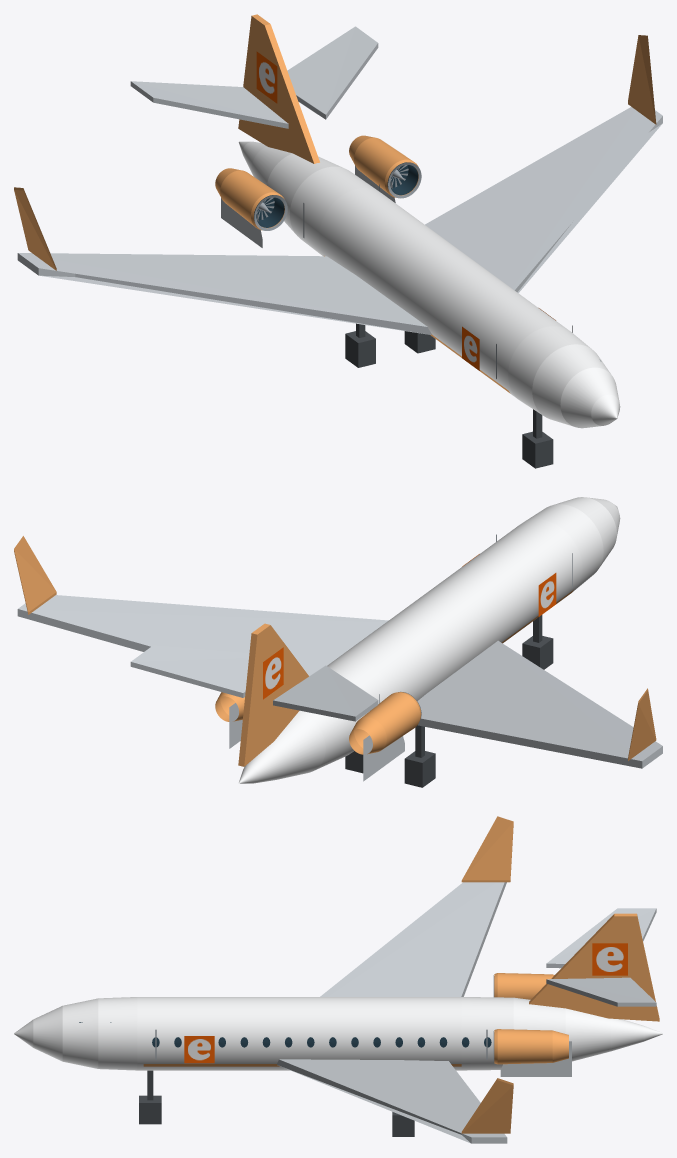
The model's file is bizjet-EZY-v3.gltf.
3 renders of one model, top to bottom at view 1: azimuth 30°, elevation 25°; view 2: azimuth 150°, elevation 25°; view 3: azimuth 270°, elevation 25°, orthographic. The views are drawn at different scales.
Visible parts, largest first — view 1: object 1, Gear; view 2: object 1, Gear; view 3: object 1, Gear.
Part boxes in pixels (box(x1,y1,x2,y2)): object 1: box(14, 14, 662, 428); Gear: box(345, 323, 553, 468); object 1: box(14, 497, 662, 783); Gear: box(345, 615, 553, 787); object 1: box(14, 816, 662, 1143); Gear: box(139, 1070, 414, 1136).
Size of the model in its own units: 21 by 7.69 by 22.
Materials: 8 (1 with a texture image).
